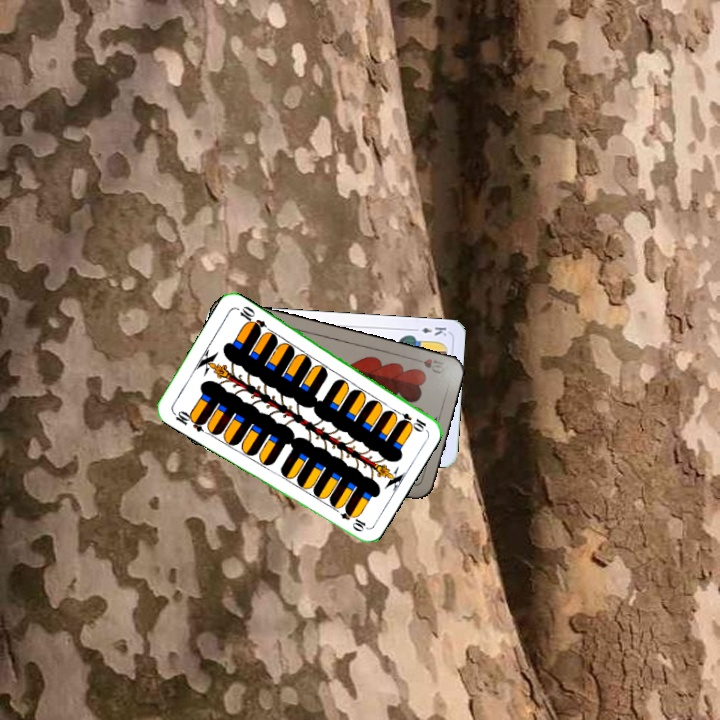E10: (169, 407, 208, 435), (390, 406, 429, 433)
EK: (409, 323, 449, 338)
H10: (408, 354, 449, 377)
